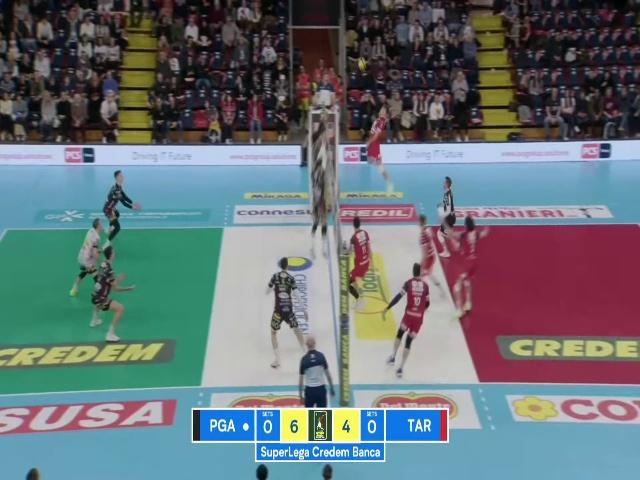volleyball court: (0, 218, 638, 397)
